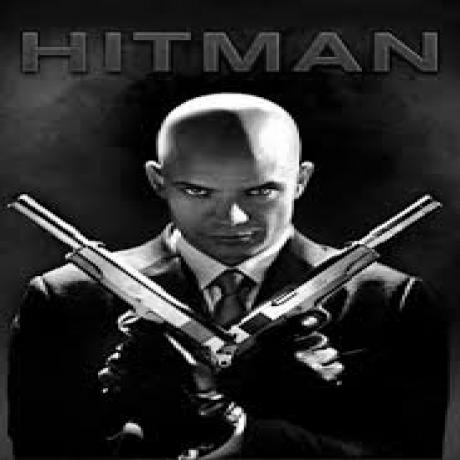Guns: (226, 194, 448, 378), (15, 191, 214, 371)
